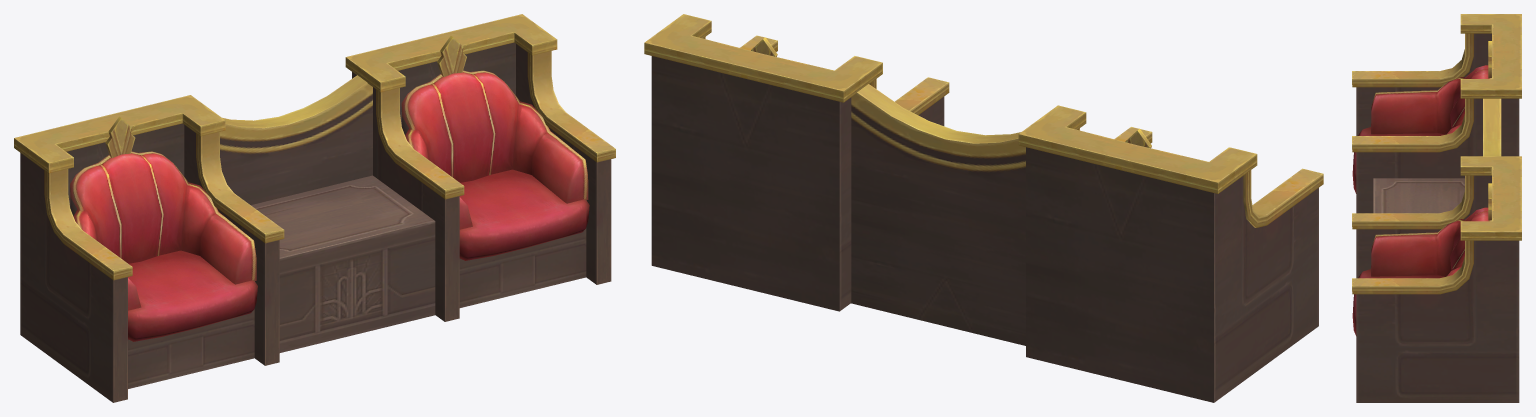
The model's file is Homeworld_Interior_Fd_Chair_Prop_Gjy_01_Vo.fbx.
3 renders of one model, left to right at view 1: azimuth 30°, elevation 25°; view 2: azimuth 150°, elevation 25°; view 3: azimuth 270°, elevation 25°, orthographic. The views are drawn at different scales.
Parts seen in each view (by area): view 1: Indoor_Fd_Prop_Gjy_Chair_A_01_Vo, Indoor_Fd_Prop_Gjy_Chair_A_01_Vo (1), Indoor_Fd_Build_Gjy_Zujian_A_03_Vo; view 2: Indoor_Fd_Prop_Gjy_Chair_A_01_Vo, Indoor_Fd_Prop_Gjy_Chair_A_01_Vo (1), Indoor_Fd_Build_Gjy_Zujian_A_03_Vo; view 3: Indoor_Fd_Prop_Gjy_Chair_A_01_Vo (1), Indoor_Fd_Prop_Gjy_Chair_A_01_Vo, Indoor_Fd_Build_Gjy_Zujian_A_03_Vo.
Boxes of the visible parts, box(x1,y1,x2,y2) form: Indoor_Fd_Prop_Gjy_Chair_A_01_Vo: box(14, 95, 284, 402); Indoor_Fd_Prop_Gjy_Chair_A_01_Vo (1): box(345, 14, 615, 321); Indoor_Fd_Build_Gjy_Zujian_A_03_Vo: box(220, 75, 435, 352); Indoor_Fd_Prop_Gjy_Chair_A_01_Vo: box(1018, 105, 1323, 402); Indoor_Fd_Prop_Gjy_Chair_A_01_Vo (1): box(644, 14, 949, 311); Indoor_Fd_Build_Gjy_Zujian_A_03_Vo: box(851, 84, 1025, 345); Indoor_Fd_Prop_Gjy_Chair_A_01_Vo (1): box(1352, 156, 1521, 402); Indoor_Fd_Prop_Gjy_Chair_A_01_Vo: box(1352, 14, 1521, 213); Indoor_Fd_Build_Gjy_Zujian_A_03_Vo: box(1373, 98, 1501, 213).
Size of the model in its own units: 3.39 by 1.34 by 1.11.
1 material, 1 textured.
